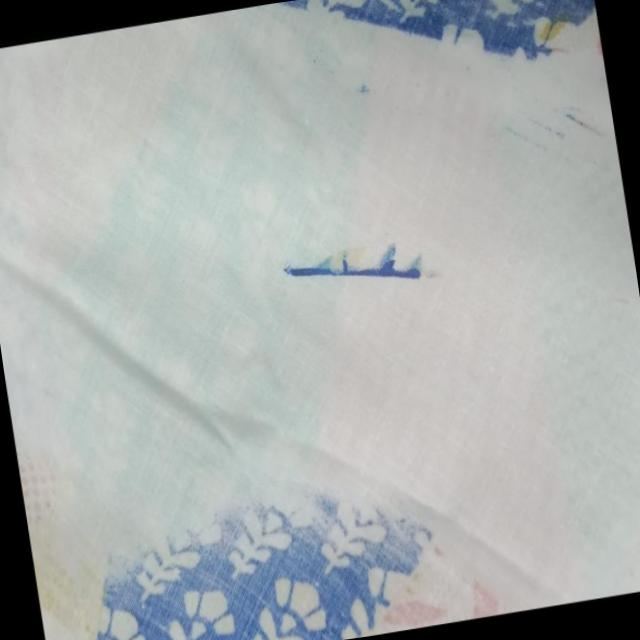color issues: (0, 0, 412, 640), (318, 0, 640, 629)
